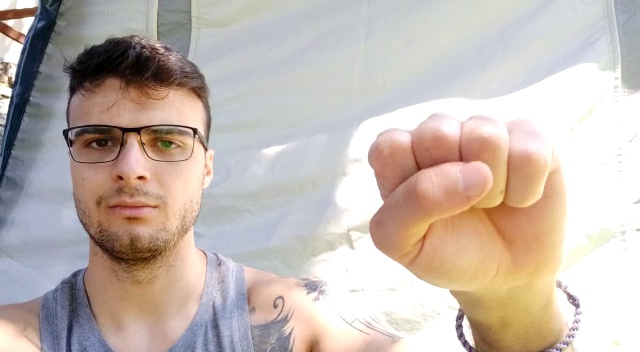Fist: (363, 109, 563, 281)
